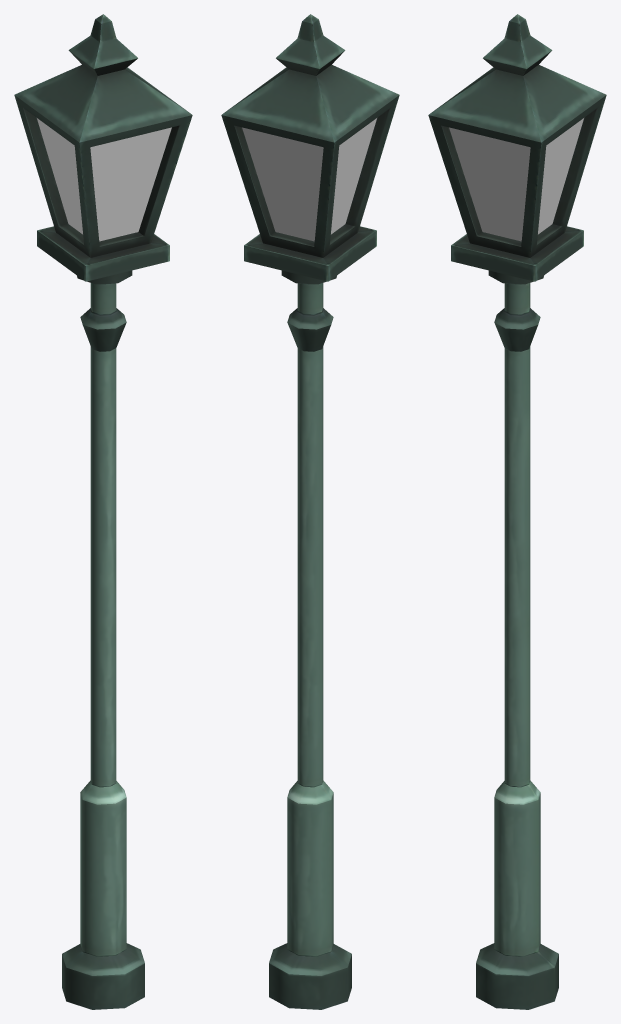
File: Street Light 1_HD.fbx
The picture shows the model from 3 angles, left to right: view 1: azimuth 30°, elevation 25°; view 2: azimuth 150°, elevation 25°; view 3: azimuth 330°, elevation 25°; orthographic projection.
Parts seen in each view (by area): view 1: StreetLight, glass; view 2: StreetLight, glass; view 3: StreetLight, glass.
Part boxes in pixels (x1,y1,x2,y2): StreetLight: (14,14,192,1009); glass: (37,118,171,241); StreetLight: (221,14,399,1009); glass: (242,118,376,241); StreetLight: (428,14,606,1009); glass: (449,118,583,241).
Size of what is drawn, in the model's own units: 0.3754 by 3.1 by 0.3754.
